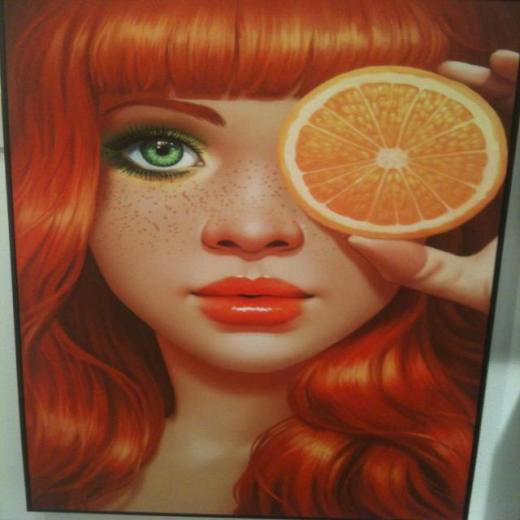Grape: (277, 56, 512, 250)
